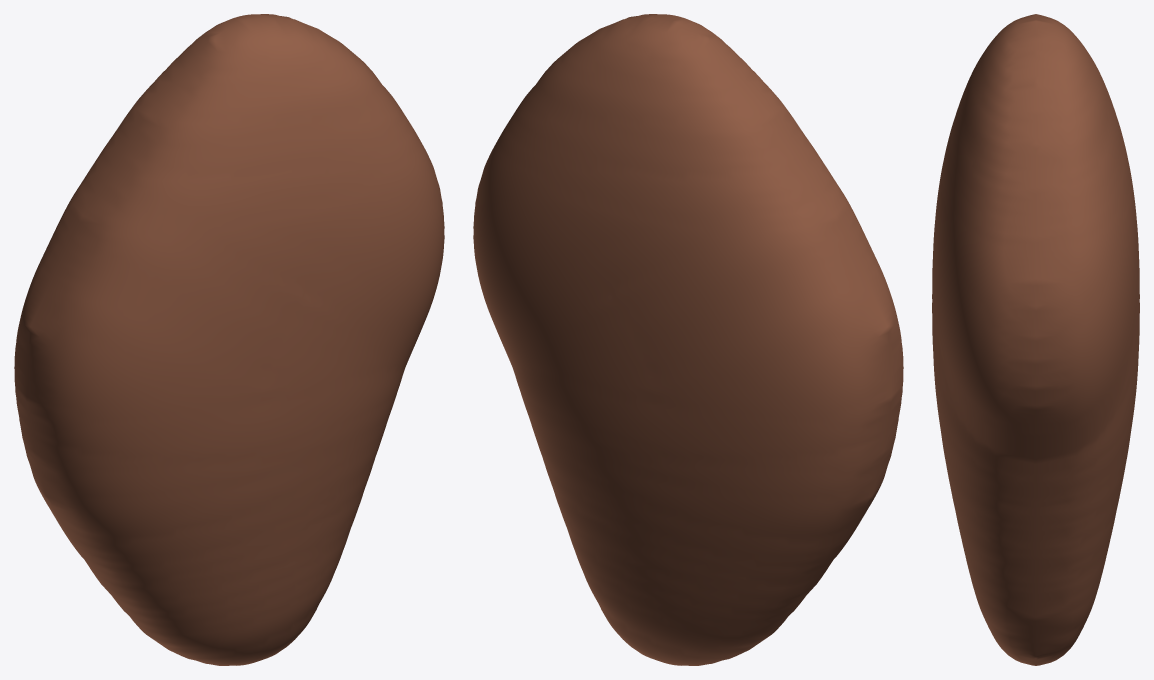
The model's file is Kibble.fbx.
The picture shows the model from 3 angles, left to right: view 1: azimuth 30°, elevation 25°; view 2: azimuth 150°, elevation 25°; view 3: azimuth 270°, elevation 25°; orthographic projection.
Parts seen in each view (by area): view 1: root; view 2: root; view 3: root.
Boxes of the visible parts, left/top/right/bottom form: root: left=14, top=14, right=444, bottom=665; root: left=473, top=14, right=903, bottom=665; root: left=932, top=14, right=1139, bottom=665.
Size of the model in its own units: 0.136 by 0.2042 by 0.0605.
Materials: 1 (1 with a texture image).
